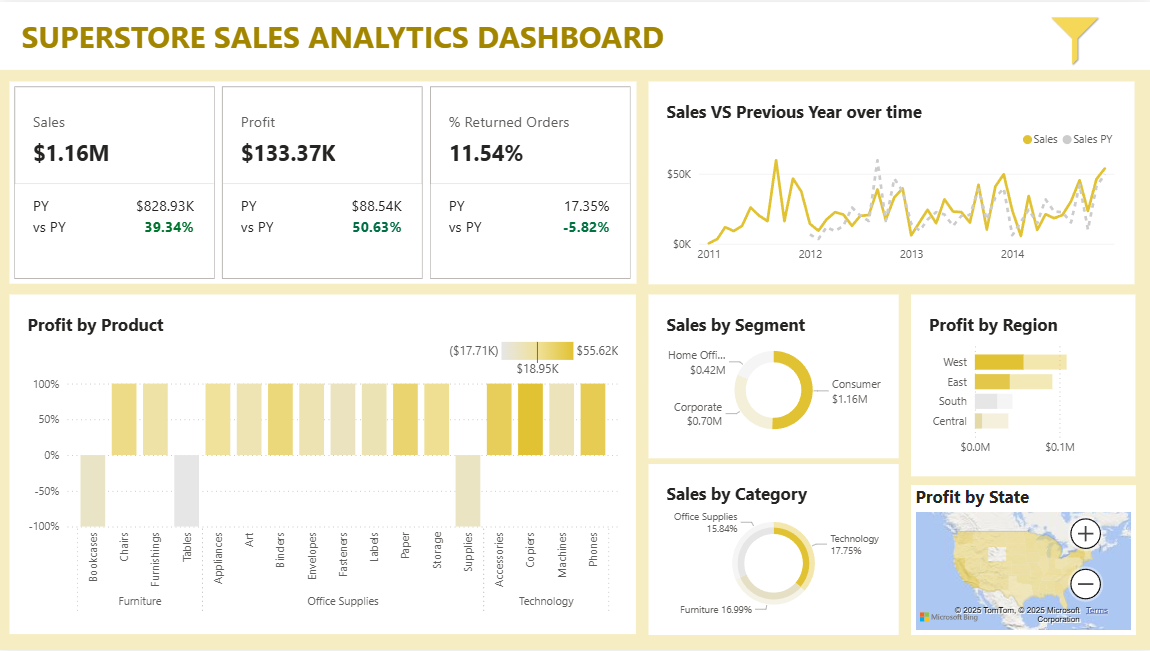

The dashboard page shown, as its layout file describes it:
{"tool":"powerbi","page":{"name":"Page 1","canvas":[1280,720],"ordinal":0},"visuals":[{"type":"image","title":"Filter","box":[1114,0,166,88],"z":0,"group":"g1"},{"type":"cardVisual","fields":{"Data":["Key Measures.Sales","Key Measures.Profit","Key Measures.% Returned Orders"]},"box":[11.8,89,696.8,225],"z":0},{"type":"shape","box":[0,0,1279.4,75.6],"z":1000},{"type":"lineChart","title":"Sales VS Previous Year over time","fields":{"Y":["Key Measures.Sales","Key Measures.Sales PY"],"Category":["Date Table.Start of month"]},"box":[721.7,88.3,540,225],"z":2000},{"type":"hundredPercentStackedColumnChart","title":"Profit by Product","fields":{"Category":["Orders.Category","Orders.Sub-Category"],"Y":["Key Measures.Profit"]},"box":[11.2,325,696.2,377.5],"z":3000},{"type":"filledMap","title":"Profit by State","fields":{"Category":["Orders.State"]},"box":[1013,537,249,166],"z":4000},{"type":"donutChart","title":"Sales by Segment","fields":{"Y":["Key Measures.Sales"],"Category":["Orders.Segment"]},"box":[722,325,278,182],"z":5000},{"type":"barChart","title":"Profit by Region","fields":{"Category":["Orders.Region"],"Y":["Key Measures.Profit"]},"box":[1013,325,249,202],"z":6000},{"type":"pieChart","title":"Sales by Category","fields":{"Y":["Key Measures.Sales"],"Category":["Orders.Category"]},"box":[722,514,278,190],"z":7000},{"type":"group","id":"g1","title":"Slicer Panel","box":[934,0,346,480],"z":8000}]}

Visuals, with their boxes in screenshot pixels (x1, y1, x2, y2), scaled from the page's 1280x720 canvas onto the 1150x651 screenshot:
"Filter" image: bbox(1001, 0, 1149, 80)
cardVisual - Key Measures.Sales x Key Measures.Profit: bbox(11, 80, 637, 284)
shape: bbox(0, 0, 1149, 68)
"Sales VS Previous Year over time" lineChart: bbox(648, 80, 1134, 283)
"Profit by Product" hundredPercentStackedColumnChart: bbox(10, 294, 636, 635)
"Profit by State" filledMap: bbox(910, 486, 1134, 636)
"Sales by Segment" donutChart: bbox(649, 294, 898, 458)
"Profit by Region" barChart: bbox(910, 294, 1134, 476)
"Sales by Category" pieChart: bbox(649, 465, 898, 637)
"Slicer Panel" group: bbox(839, 0, 1149, 434)
